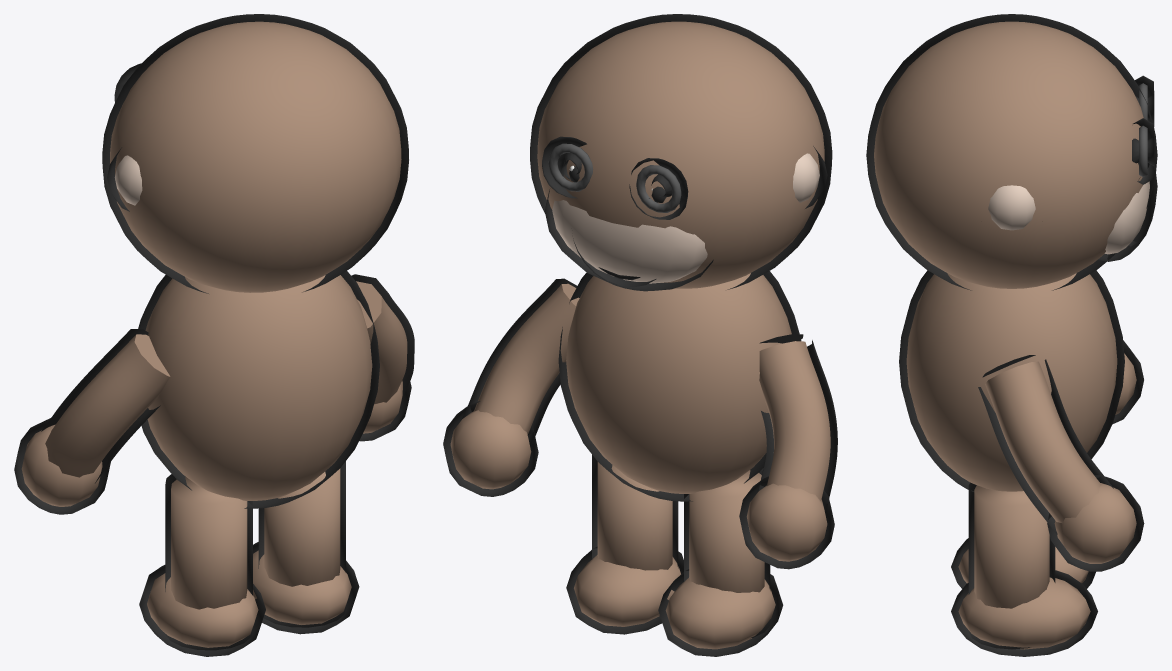
File: vf_ape.glb
3 renders of one model, left to right at view 1: azimuth 30°, elevation 25°; view 2: azimuth 150°, elevation 25°; view 3: azimuth 270°, elevation 25°, orthographic. The views are drawn at different scales.
Parts seen in each view (by area): view 1: ape; view 2: ape; view 3: ape.
Boxes of the visible parts, x1=… form: ape: x1=14, y1=14, x2=414, y2=656; ape: x1=443, y1=14, x2=837, y2=656; ape: x1=866, y1=14, x2=1157, y2=656.
Size of the model in its own units: 1.03 by 1.58 by 0.696.
